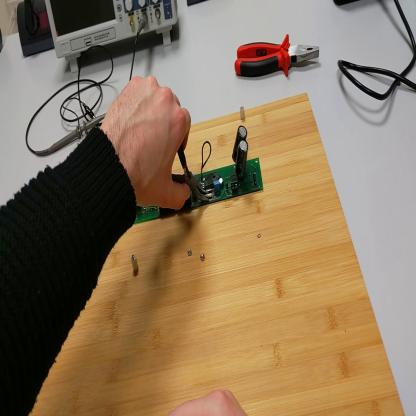hand: (101, 75, 194, 214), (167, 387, 250, 415)
high voltage board: (135, 126, 265, 224)
oscilloscope: (46, 1, 181, 76)
oscilloscope probe tip: (46, 110, 104, 160)
pliers: (234, 35, 322, 83), (179, 145, 211, 202)
socket: (17, 1, 57, 57)
working area: (28, 93, 405, 415)
